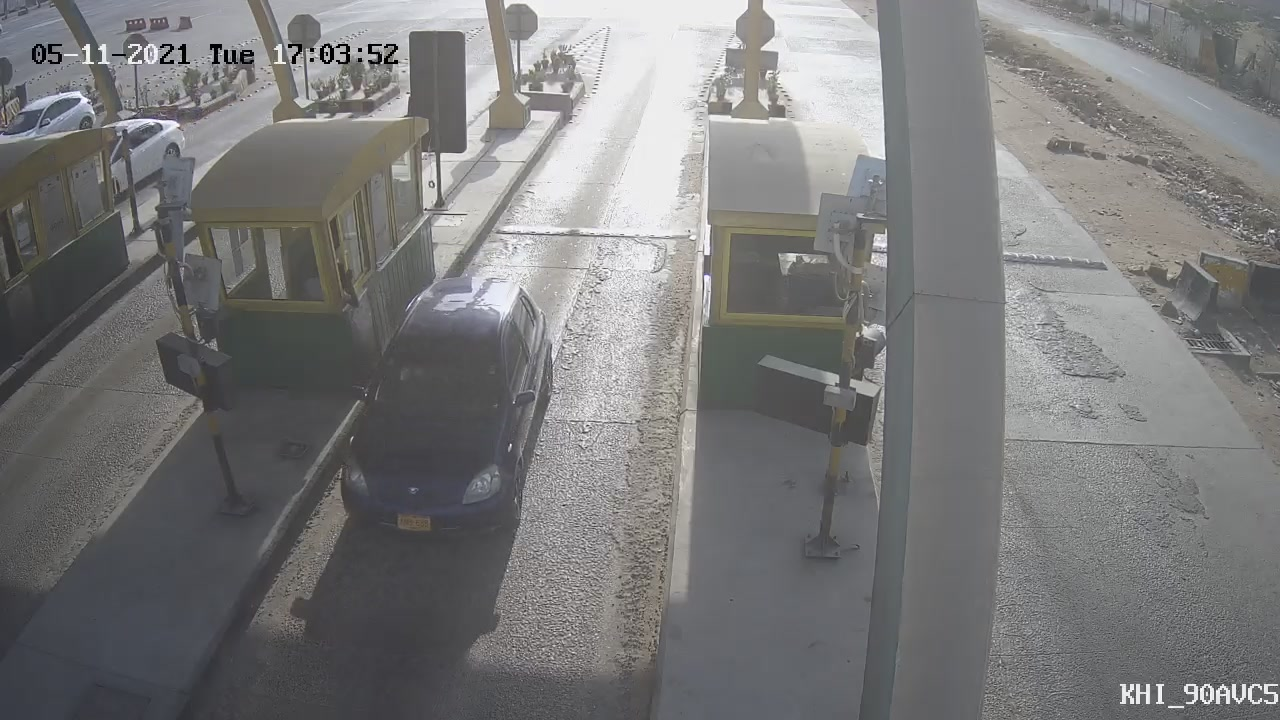F1: (307, 252, 585, 577)
